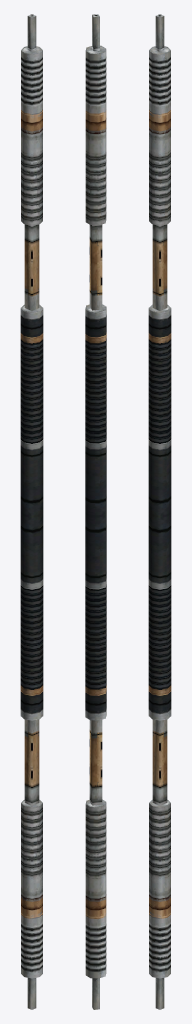
The model's file is wp_mle_lance_electric_polearm_l1.fbx.
3 views of the same model, side by side, from view 1: azimuth 90°, elevation 25°; view 2: azimuth 150°, elevation 25°; view 3: azimuth 270°, elevation 25° (orthographic).
Parts seen in each view (by area): view 1: mesh_node; view 2: mesh_node; view 3: mesh_node.
Part boxes in pixels (<box>): mesh_node: <box>20,14,43,1009</box>; mesh_node: <box>85,14,106,1009</box>; mesh_node: <box>148,14,171,1009</box>.
Size of the model in its own units: 0.0312 by 1.5 by 0.0312.
1 material, 1 textured.
